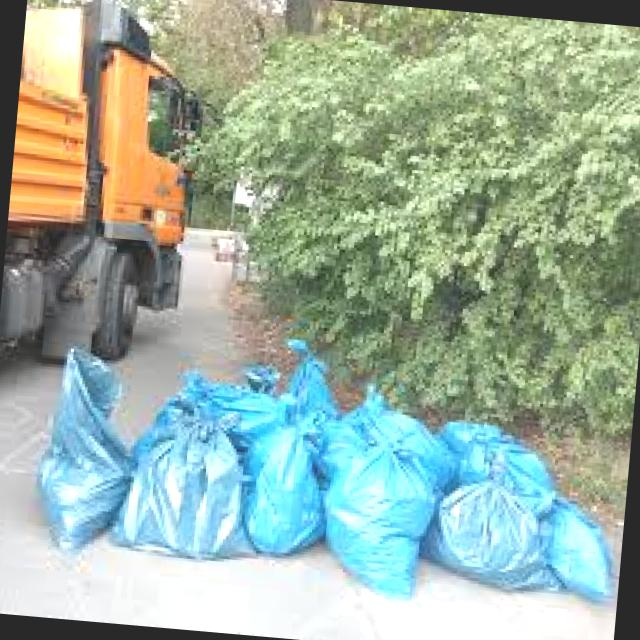garbage: (0, 325, 636, 620)
